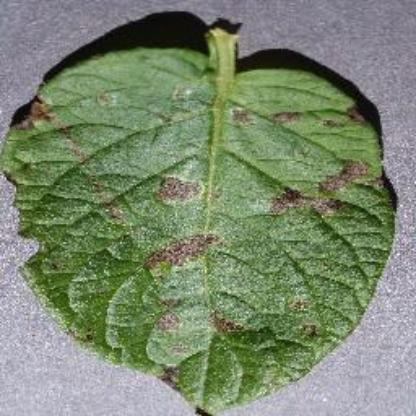Early-Blight: (6, 20, 404, 404)
